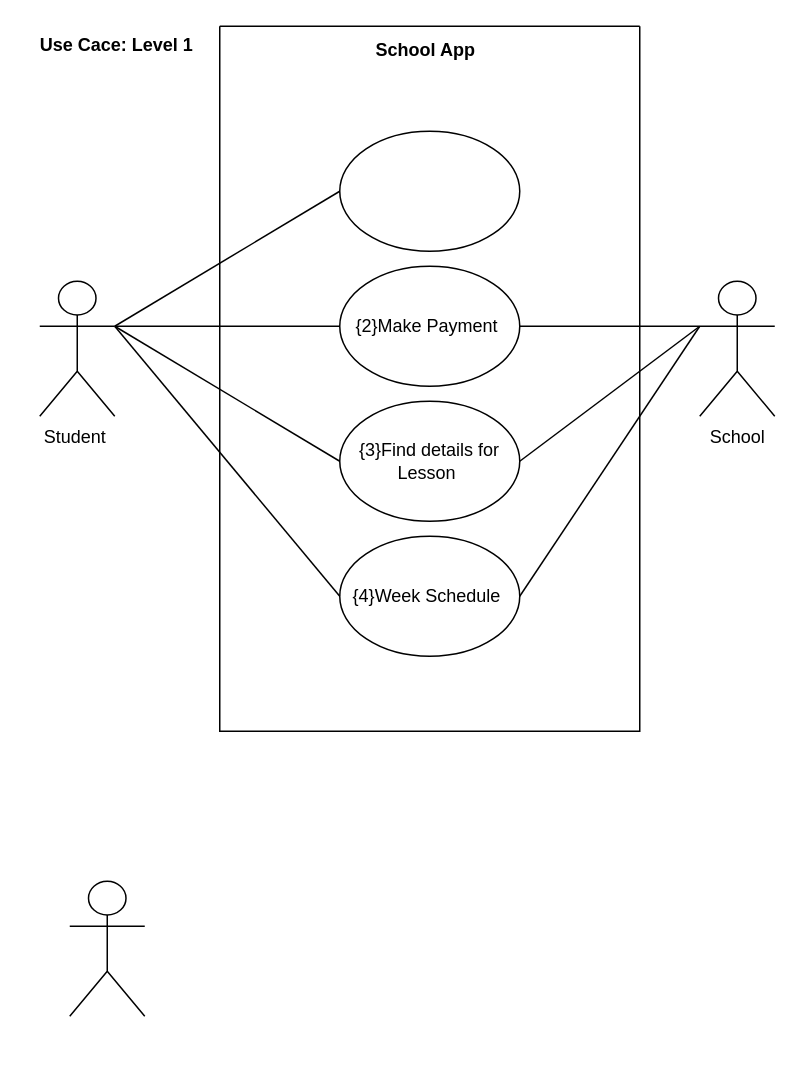
Some shapes in this 801 by 1074 pixel diagram are drawn without their labels. Each missing label, with the centre of its shape:
Teacher: pixel 106 948
{1}Log In: pixel 429 190
